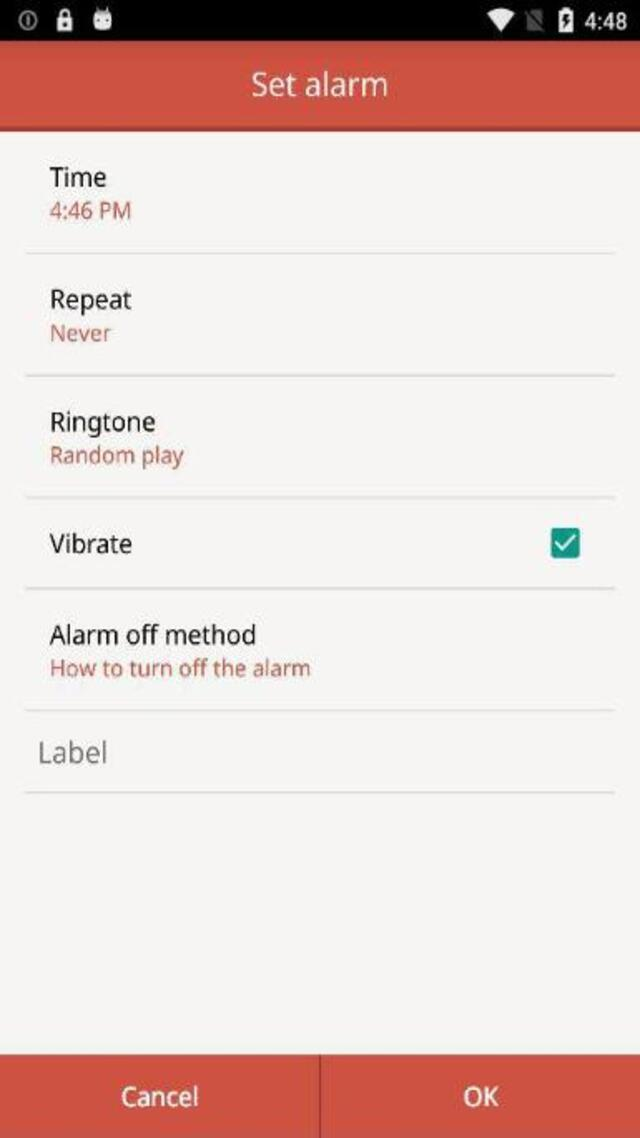CheckedTextView: (49, 528, 579, 558)
Text: (50, 657, 309, 678), (50, 622, 256, 644), (251, 70, 387, 97), (52, 444, 185, 470), (52, 411, 154, 439), (116, 1082, 202, 1110), (51, 289, 132, 316), (50, 532, 133, 553), (40, 738, 106, 763), (50, 200, 130, 220), (456, 1082, 502, 1110), (51, 322, 112, 342), (49, 166, 106, 186)
TextButton: (0, 1054, 318, 1138), (320, 1054, 638, 1138)
